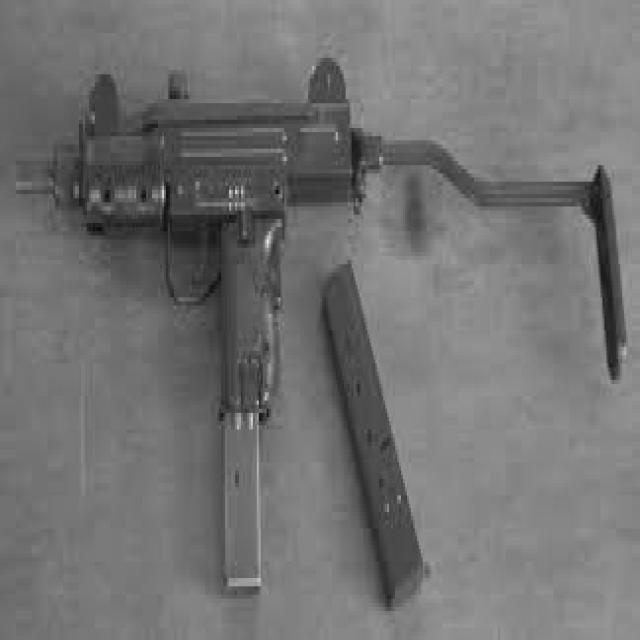semi: (14, 65, 356, 582)
